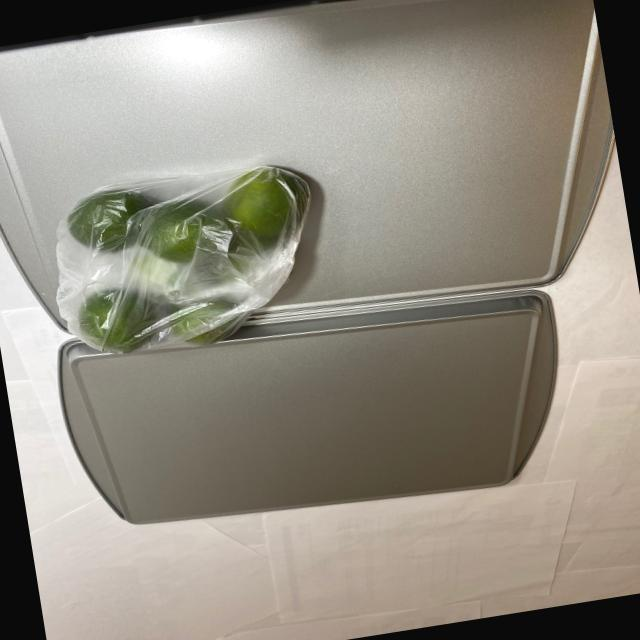lemon: (56, 162, 329, 364)
